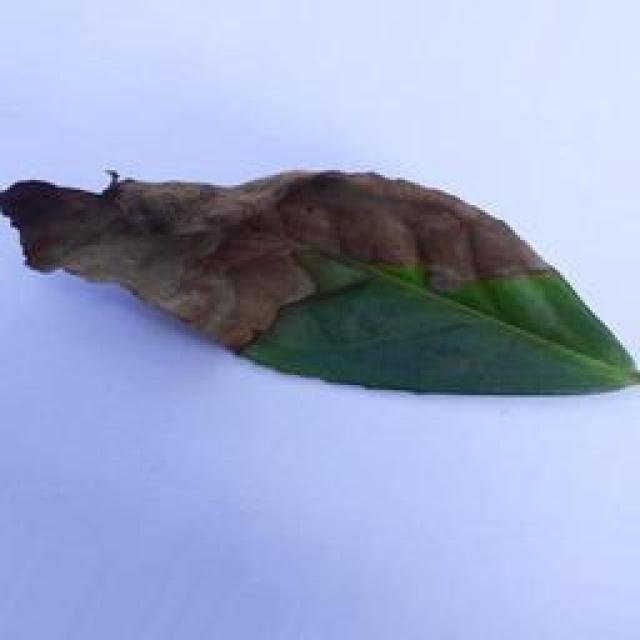Brown Blight: (6, 147, 640, 389)
